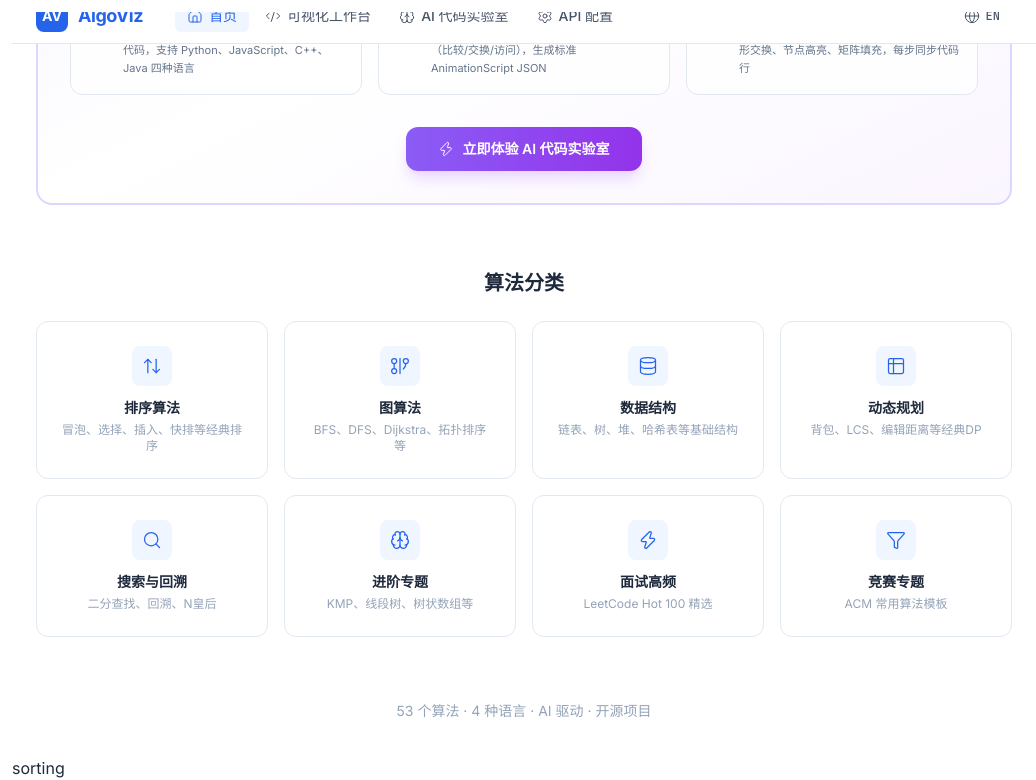
Test case: Home page › clicking a different category card sets that category
This screenshot has width=1036, height=780.
(page scrolled)
Step 1. Click the button "图算法 BFS、DFS、Dijkstra、拓扑排序等" → click(400, 400), box [284,321,516,479]
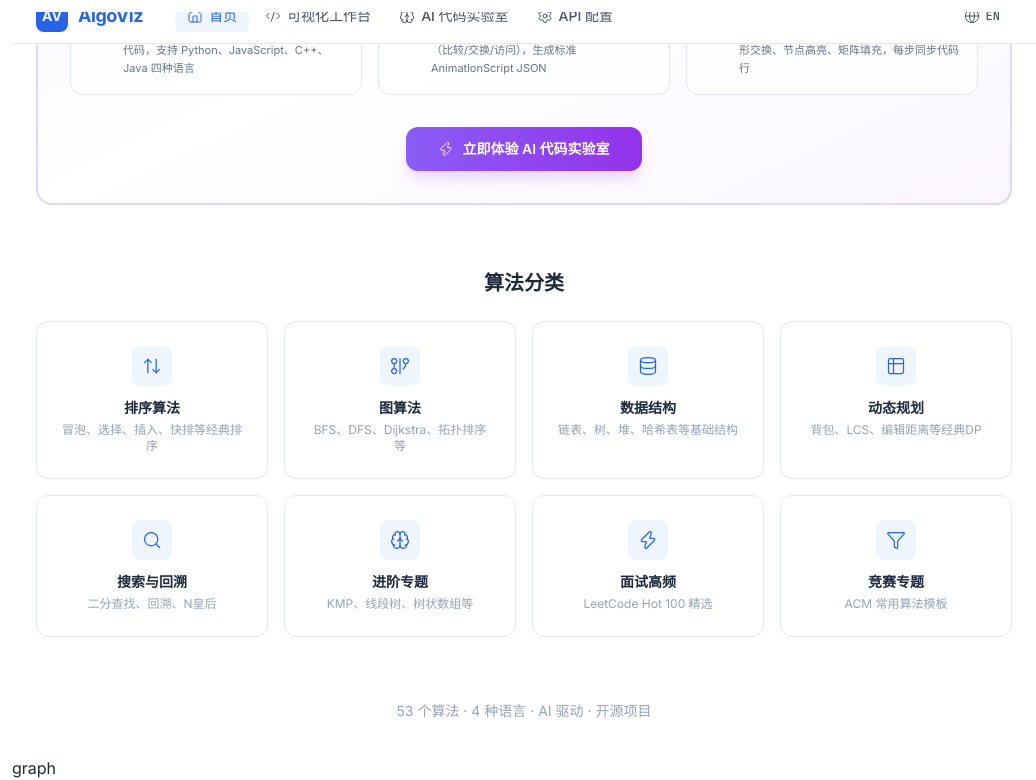
Check: the text with test id "active-category" reads "graph", box [12,758,56,778]
